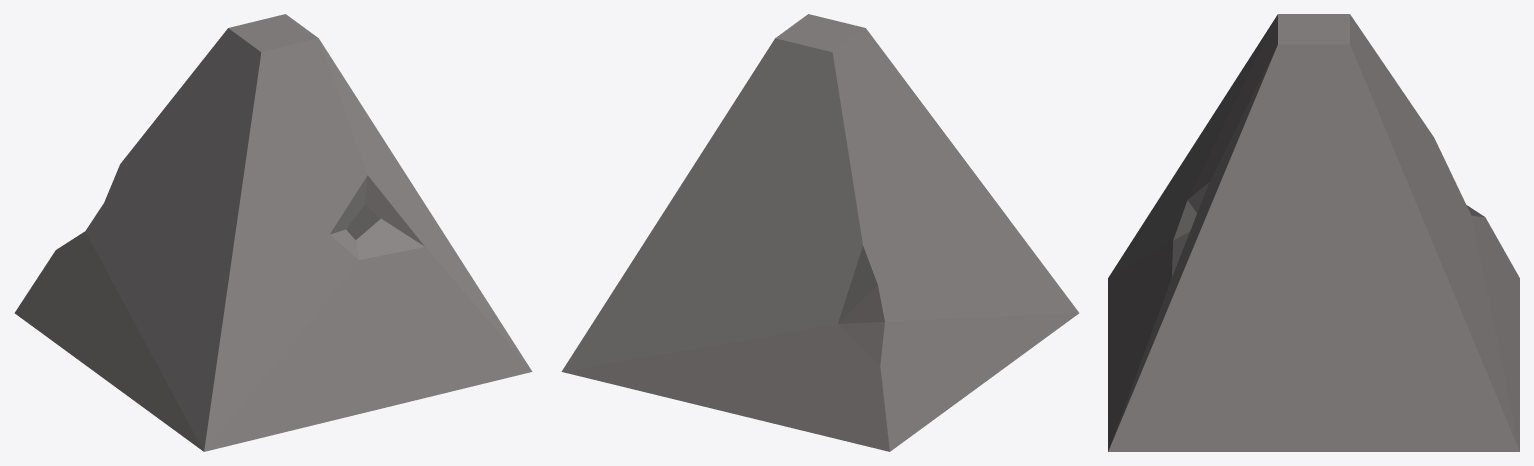
File: barrier-concrete-tank.glb
The picture shows the model from 3 angles, left to right: view 1: azimuth 30°, elevation 25°; view 2: azimuth 150°, elevation 25°; view 3: azimuth 270°, elevation 25°; orthographic projection. The views are drawn at different scales.
Visible parts, largest first — view 1: barrier-concrete-tank; view 2: barrier-concrete-tank; view 3: barrier-concrete-tank.
Boxes of the visible parts, x1=… form: barrier-concrete-tank: x1=14, y1=14, x2=532, y2=451; barrier-concrete-tank: x1=561, y1=14, x2=1079, y2=451; barrier-concrete-tank: x1=1108, y1=14, x2=1519, y2=451.
Size of the model in its own units: 1 by 0.9 by 1.
1 material, 1 textured.
